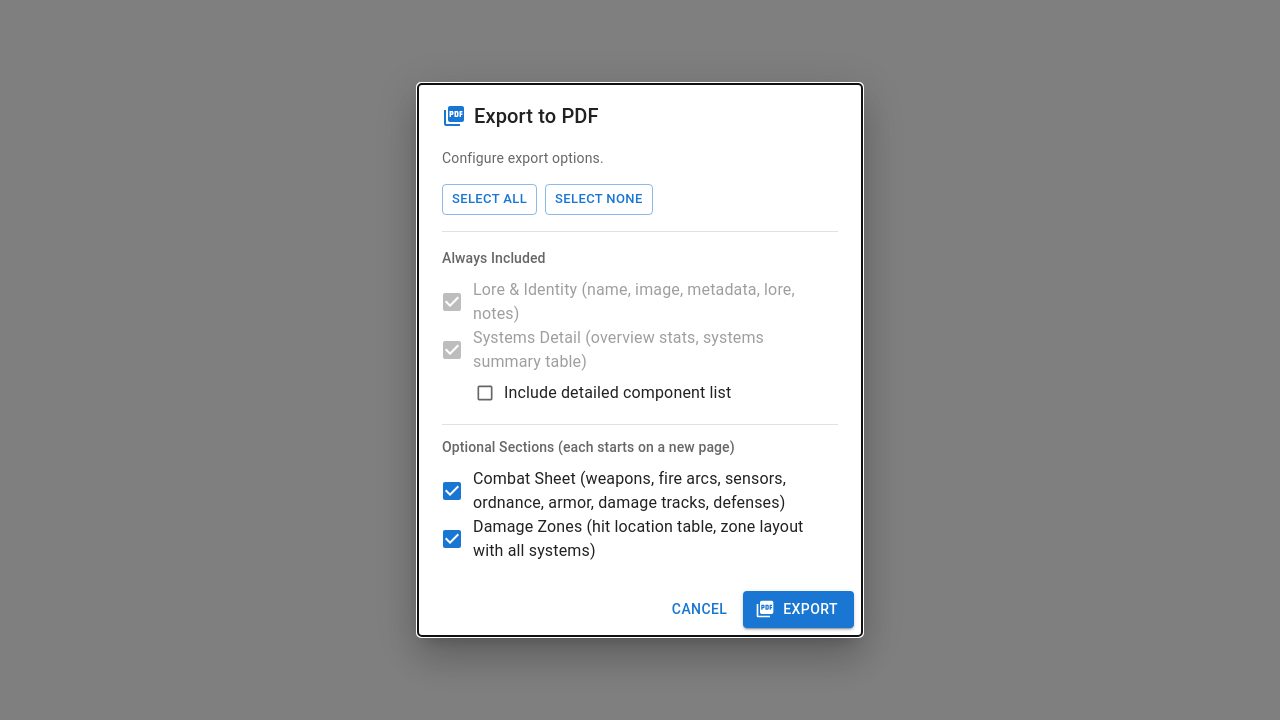
Test case: PdfExportDialog › Full Ship Sheet mode (default) › Select None unchecks all optional sections
Step 1. Click the button "Select None" → (599, 200), box [545,184,653,215]
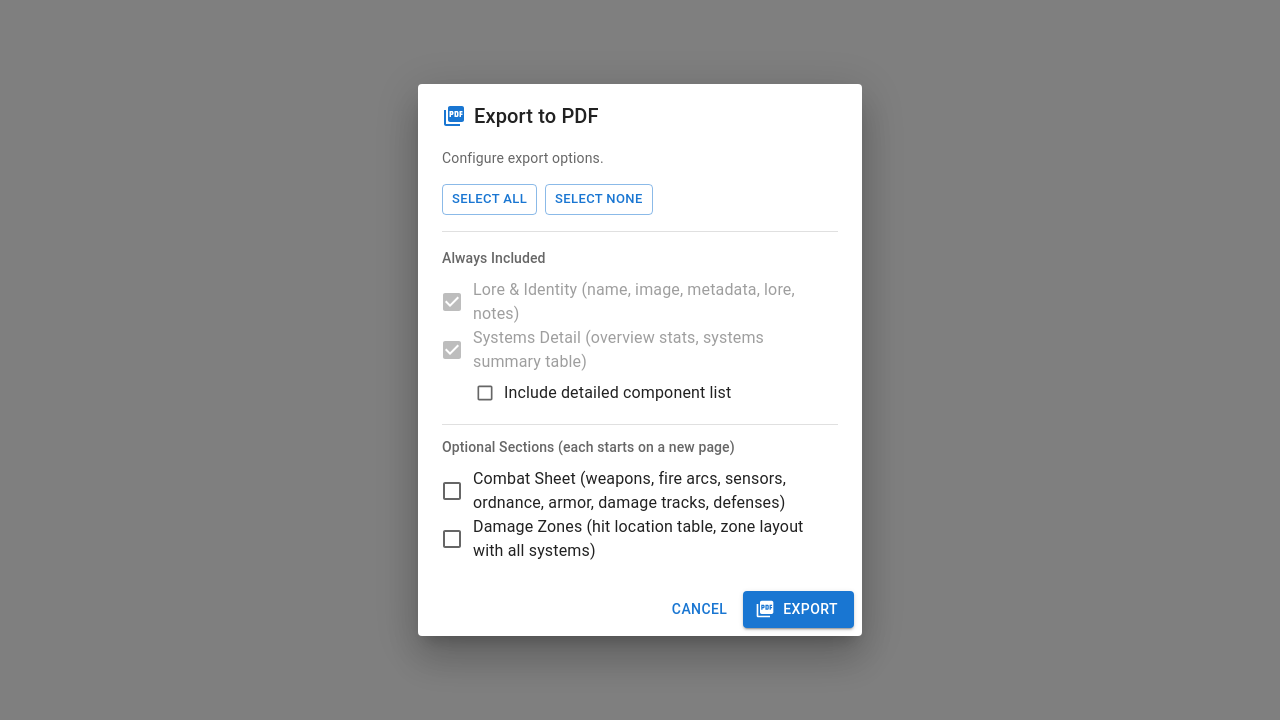
Expected: the checkbox labelled "Include detailed component list" is not checked, [475,383,731,403]
Now the checkbox labelled "Combat Sheet" is not checked, box [431,467,822,515]
Now the checkbox labelled "Damage Zones" is not checked, box [431,515,822,563]
